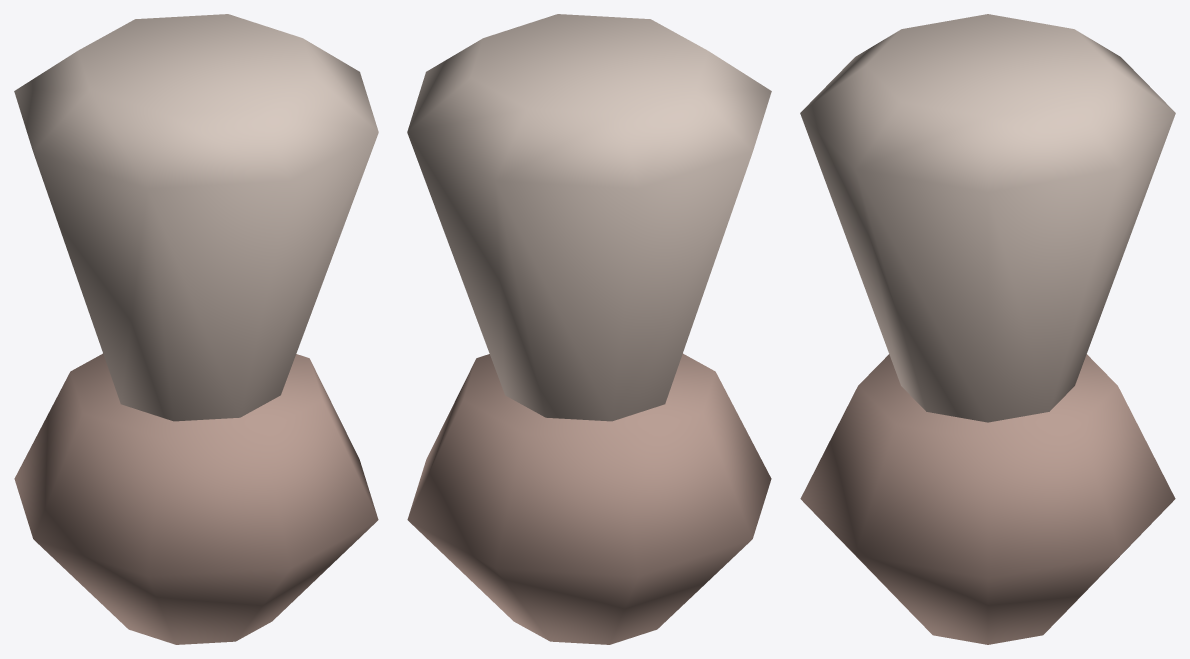
File: tassel-variant-a.glb
3 views of the same model, side by side, from view 1: azimuth 30°, elevation 25°; view 2: azimuth 150°, elevation 25°; view 3: azimuth 270°, elevation 25° (orthographic).
Visible parts, largest first — view 1: tassel-variant-a; view 2: tassel-variant-a; view 3: tassel-variant-a.
Boxes of the visible parts, <box> form: tassel-variant-a: <box>14,14,378,644</box>; tassel-variant-a: <box>407,14,771,644</box>; tassel-variant-a: <box>800,14,1175,644</box>.
Bounding box in the file's own units: 0.0808 × 0.1296 × 0.0808.
